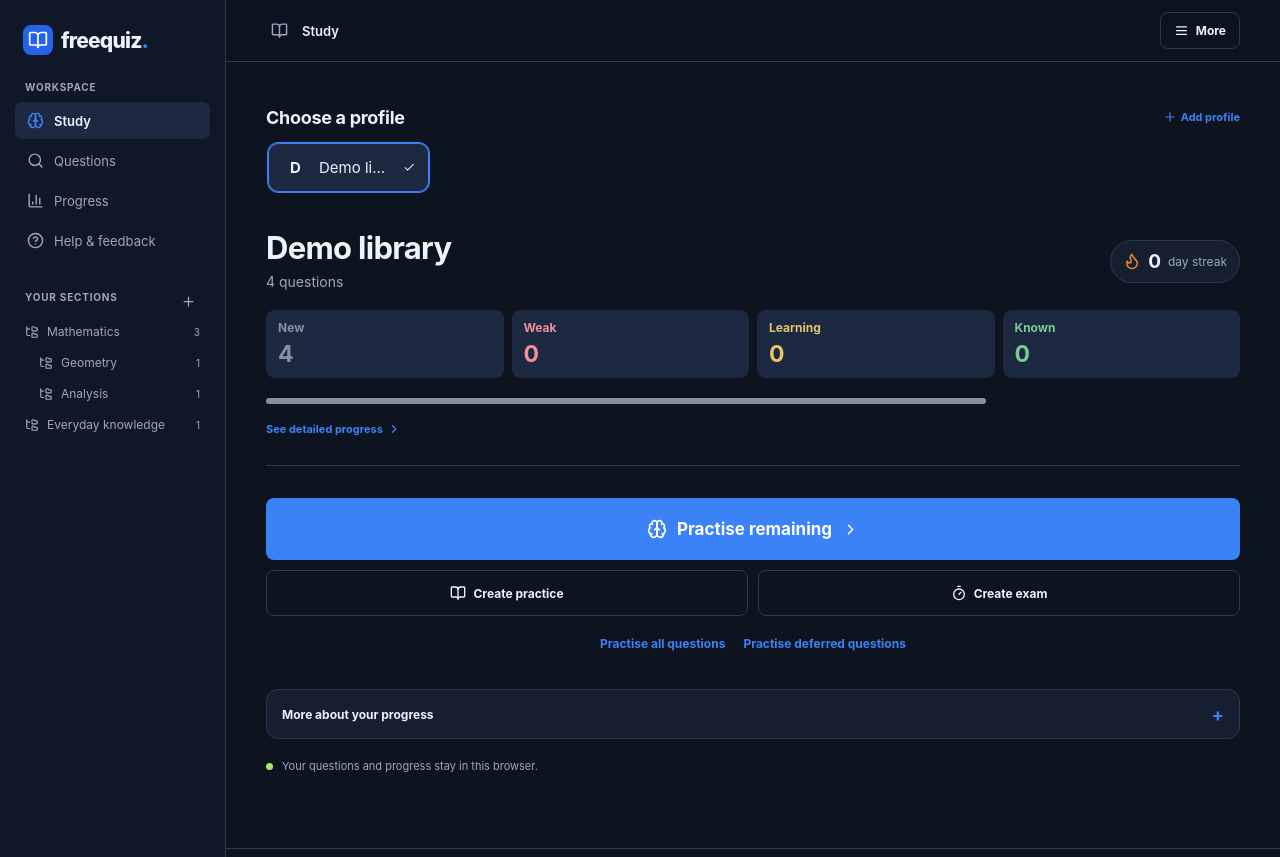
Test: Freequiz › shows import and clearly separated export options on the Import & export destination
Click the button with aria-label "Menu": x=1200, y=30 [1160,12,1240,49]
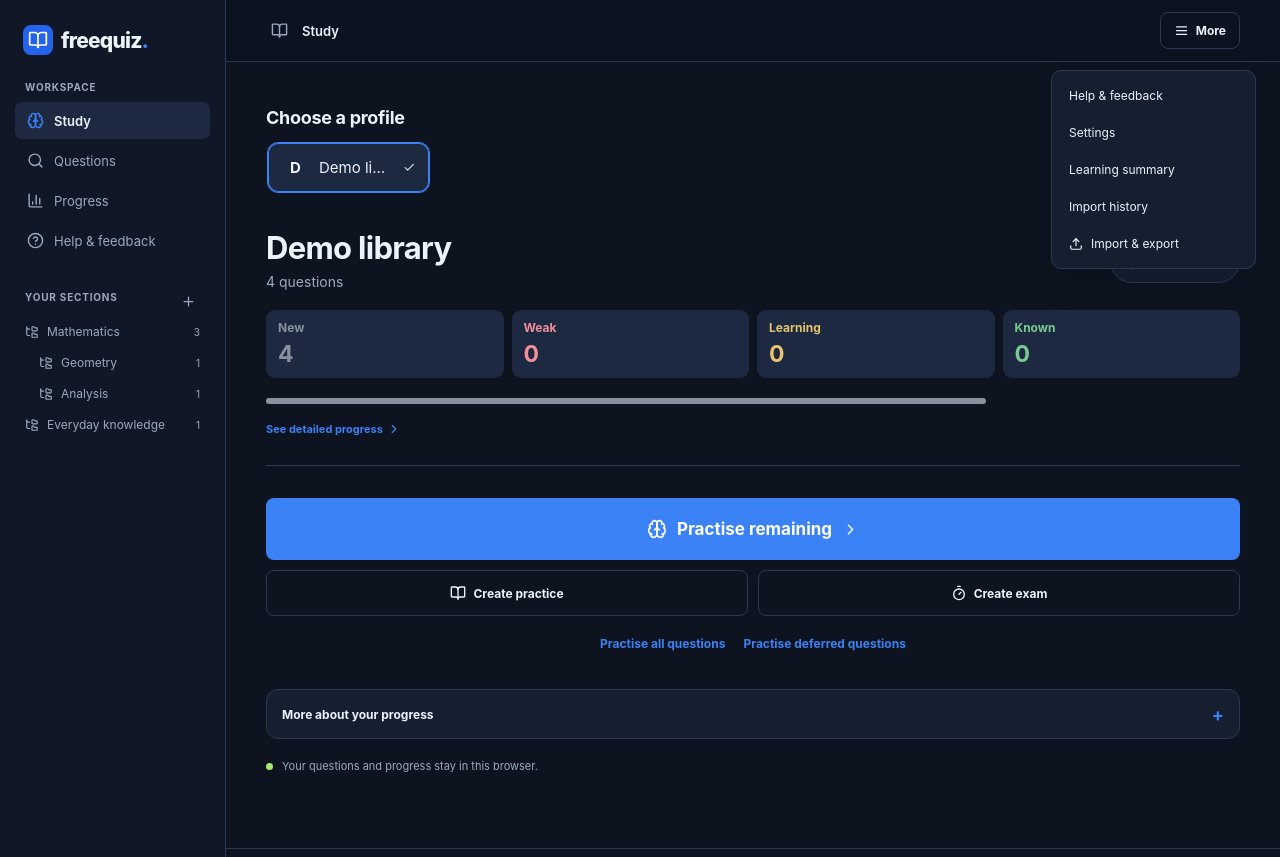
Click the button "Import & export": x=1146, y=244 [1059,226,1233,261]
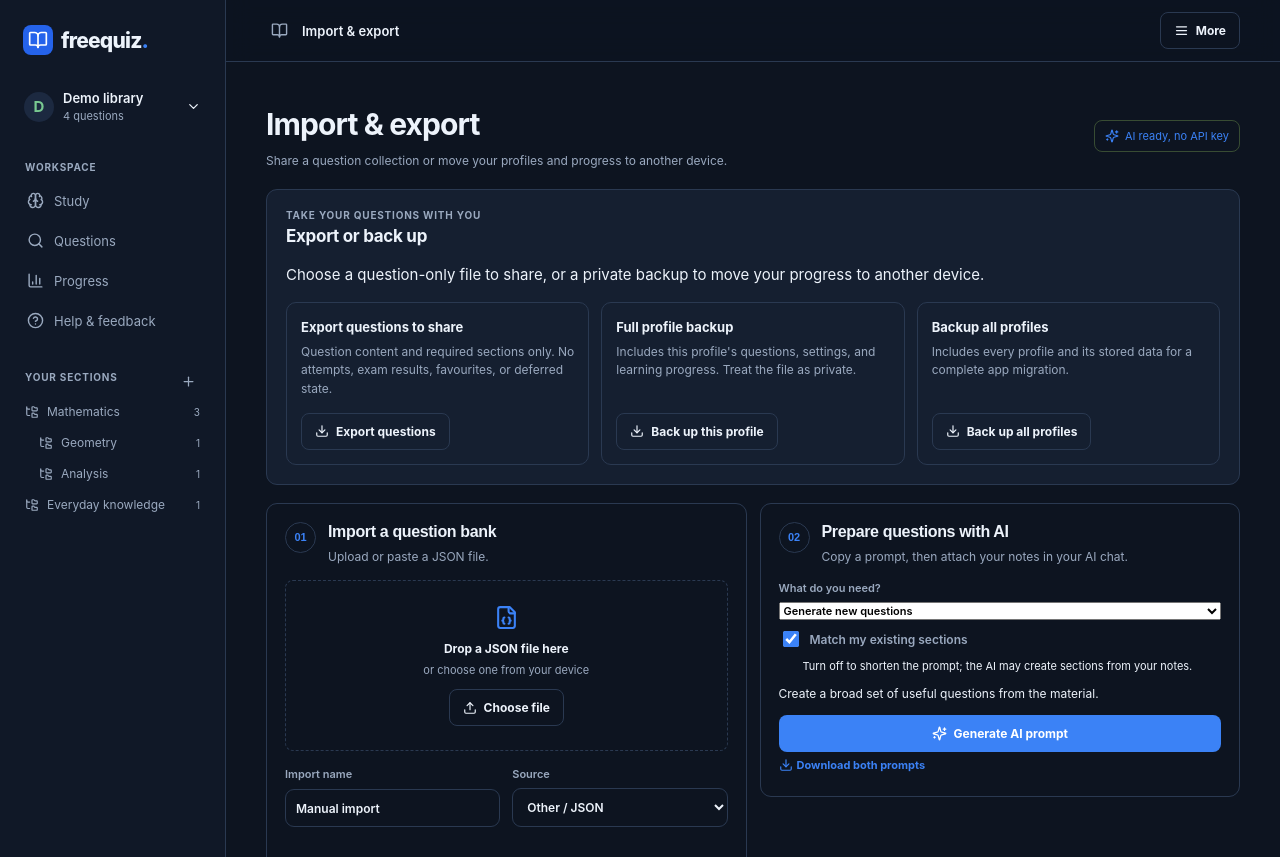
Expected: the heading "Import a question bank" is shown, [328,523,496,541]
Expected: the heading "Prepare questions with AI" is shown, [822,523,1009,540]
Expected: the heading "Export or back up" is shown, [286,226,427,246]
